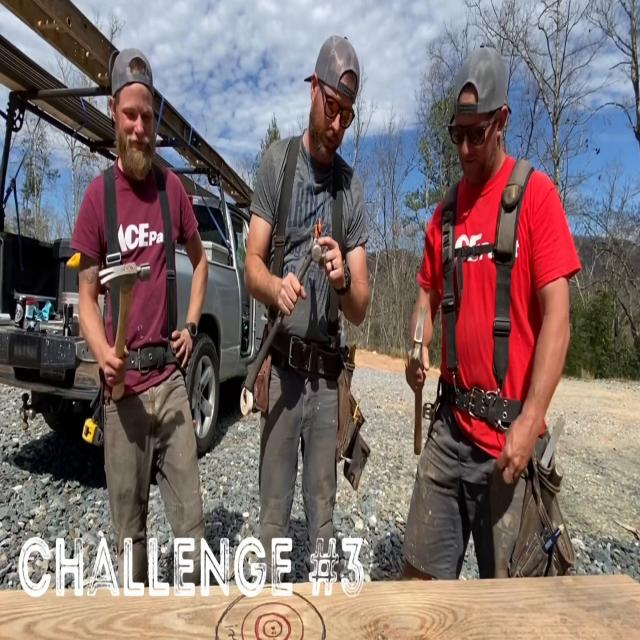hammer: (246, 238, 322, 388), (102, 253, 154, 399), (412, 307, 426, 453)
